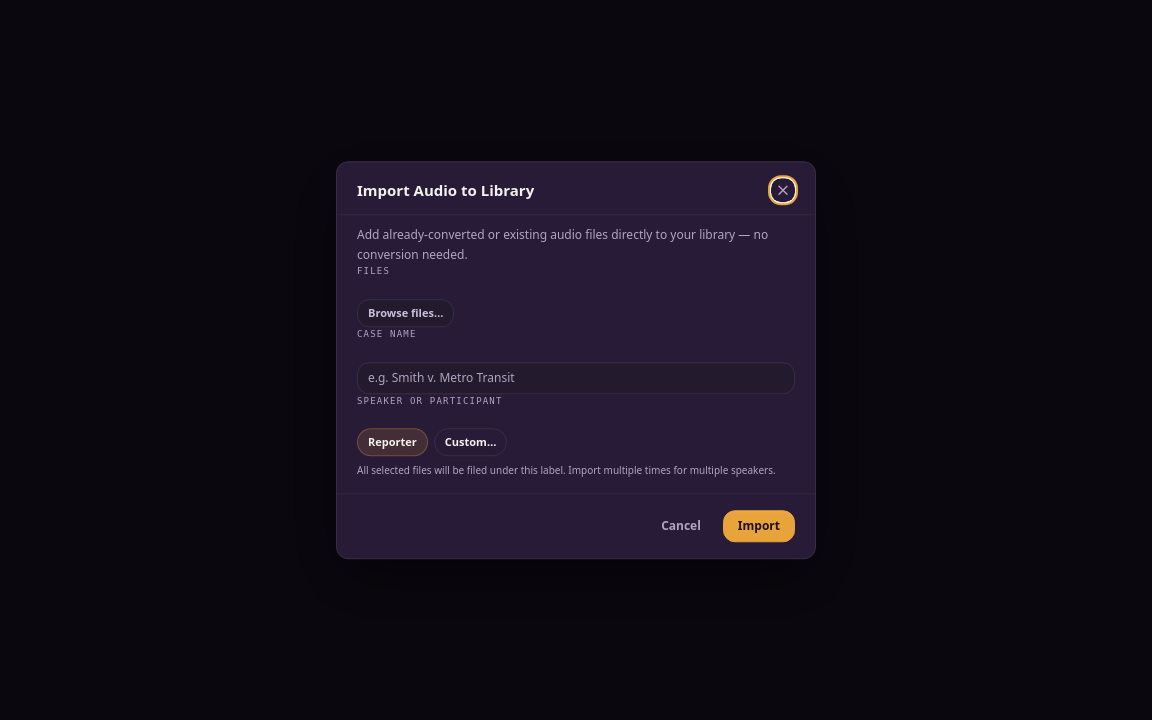
Test: accessible app shell and Library › distinguishes file-picker failure from intentional cancellation
The width and height of the screenshot is (1152, 720).
Click the button "Browse files…".
click(406, 313)  # box x1=357 y1=299 x2=454 y2=327
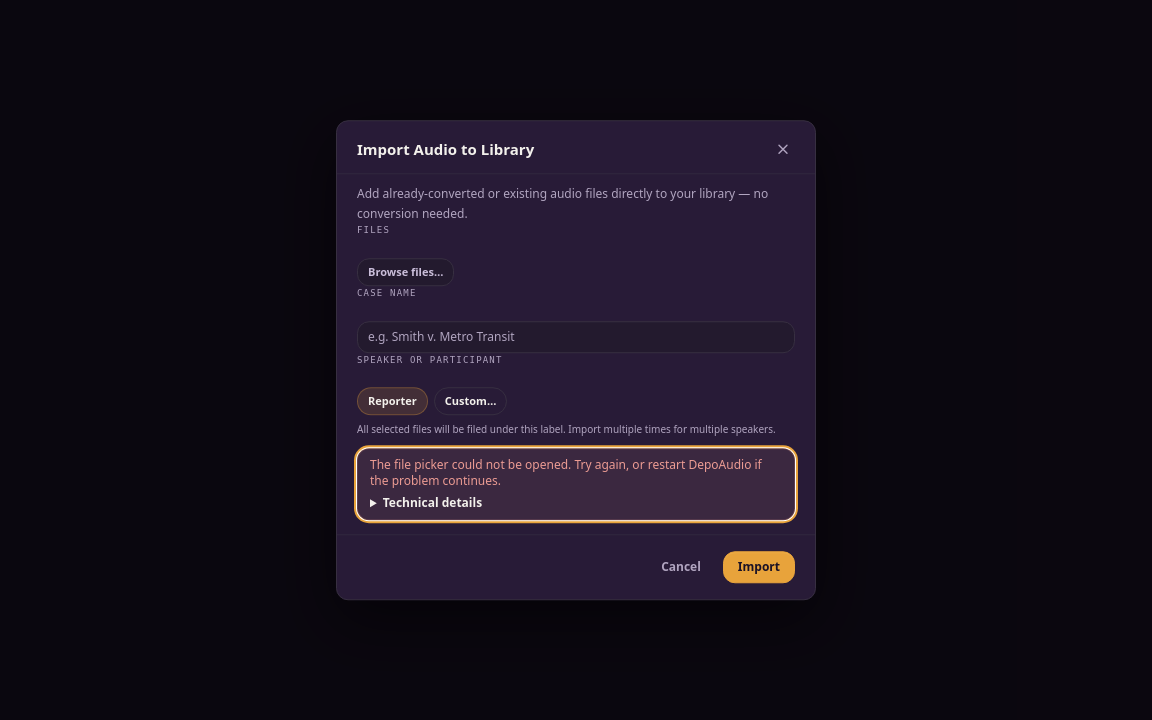
Result: the message shows "The file picker could not be opened" at x1=370 y1=456 x2=762 y2=489
